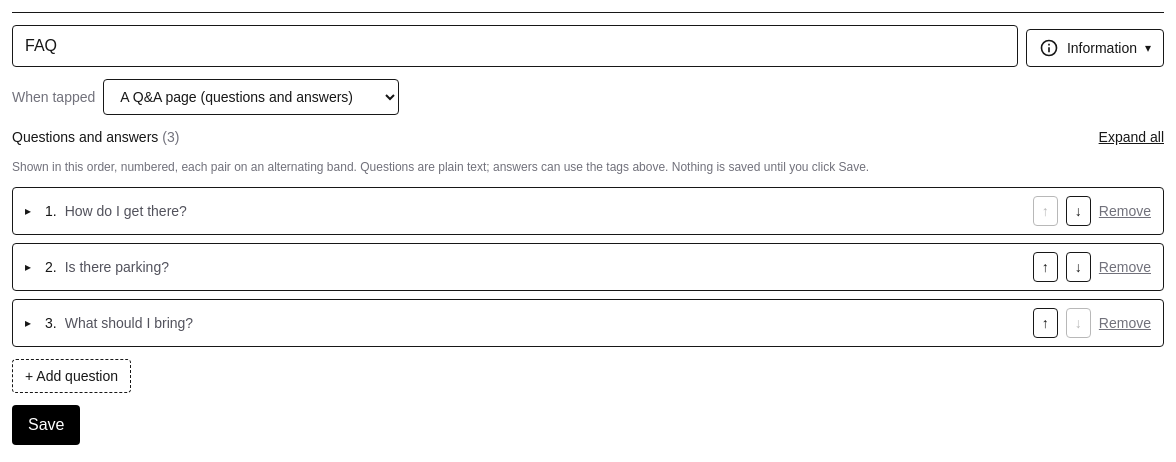
it: question containers › shows how many questions there are
Check: the text "(3)" is shown, box [162,129,179,145]
Click the button with aria-label "Remove question 1". click: (1125, 211)
box: [1099,201,1151,221]
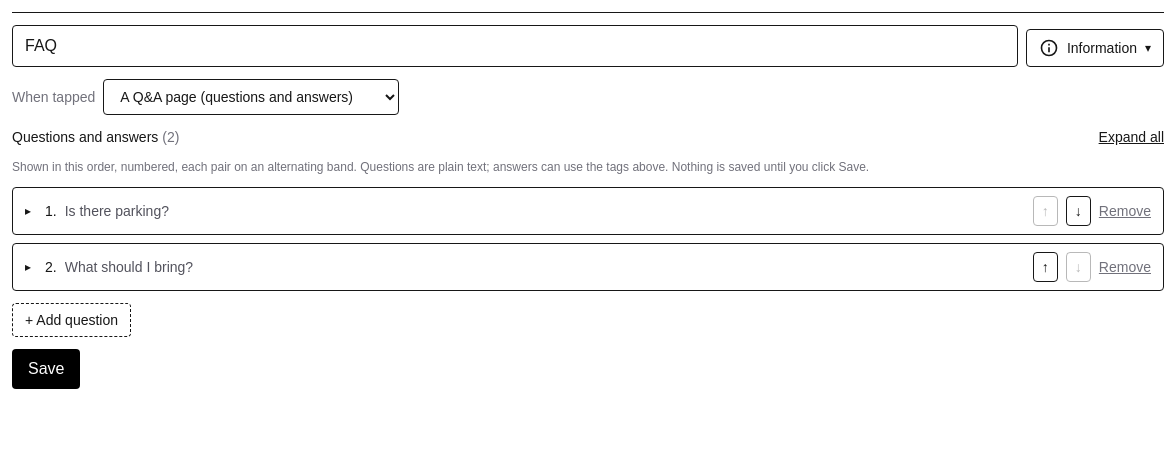
Check: the text "(2)" is shown, box [162,129,179,145]
